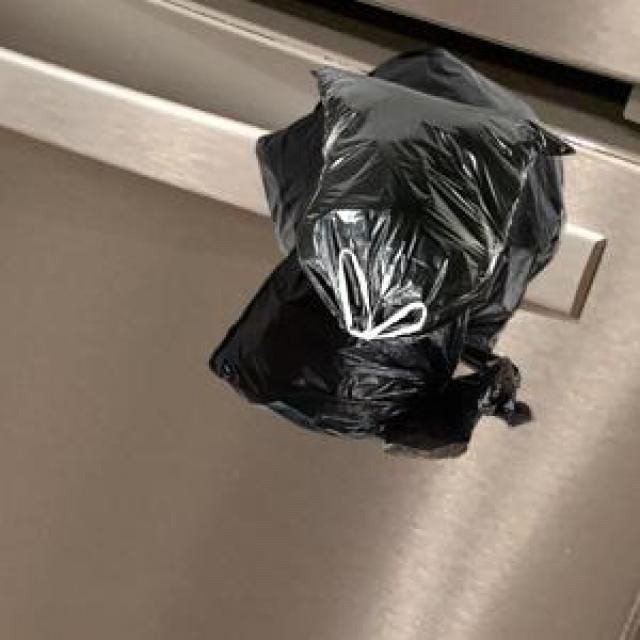Vinyl: (210, 49, 572, 448)
